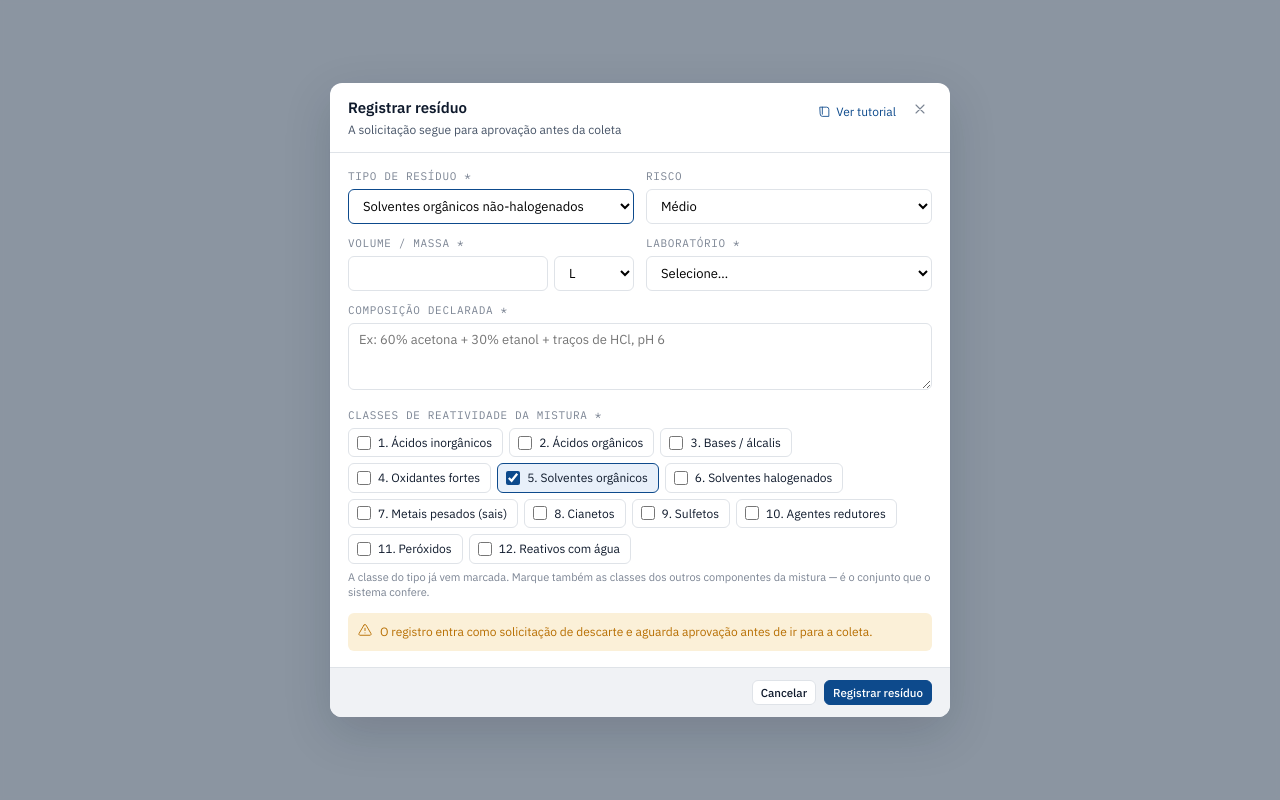
Test case: FormNovoResiduo — entradas inválidas › submeter vazio mostra erros sob os campos, sem alert
This screenshot has width=1280, height=800.
Click the checkbox labelled "1. Ácidos inorgânicos".
click(364, 443)  # box [357, 436, 371, 450]
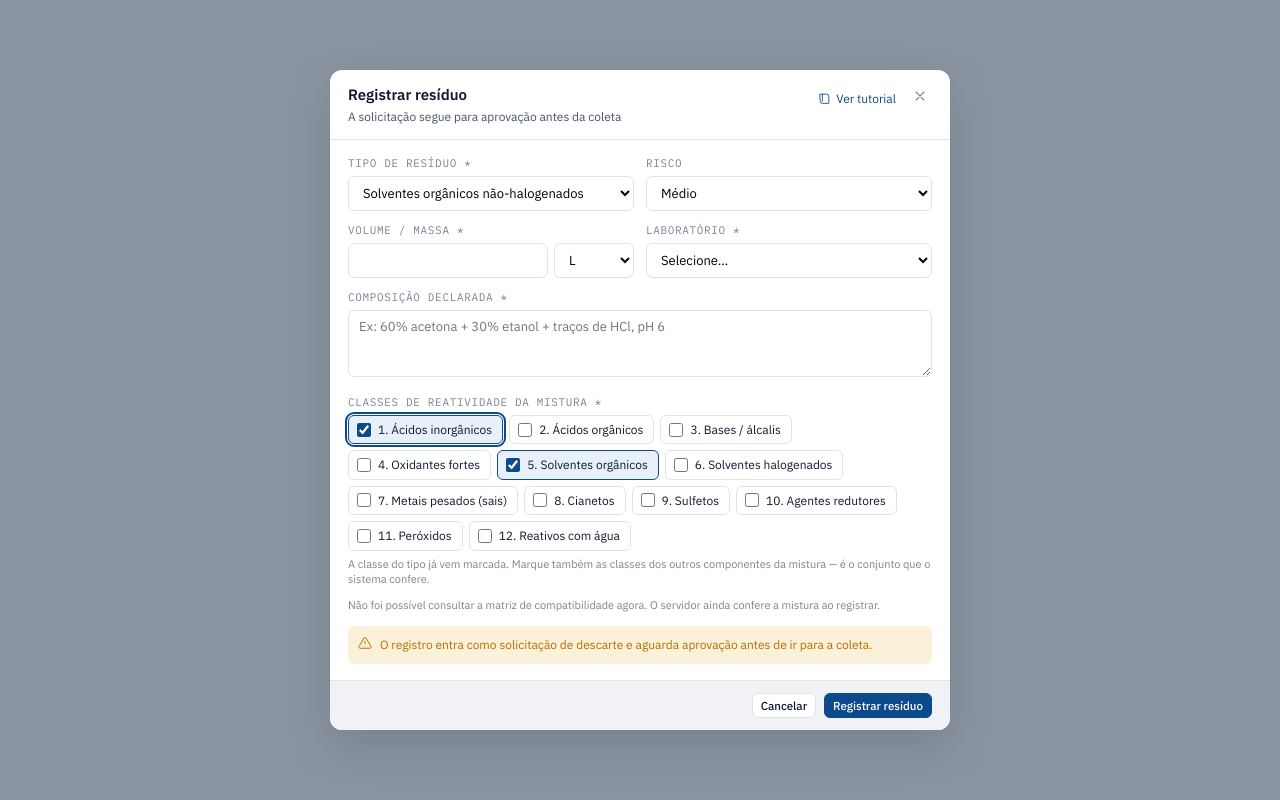
Click the button "Registrar resíduo".
click(878, 705)  # box [824, 693, 932, 718]
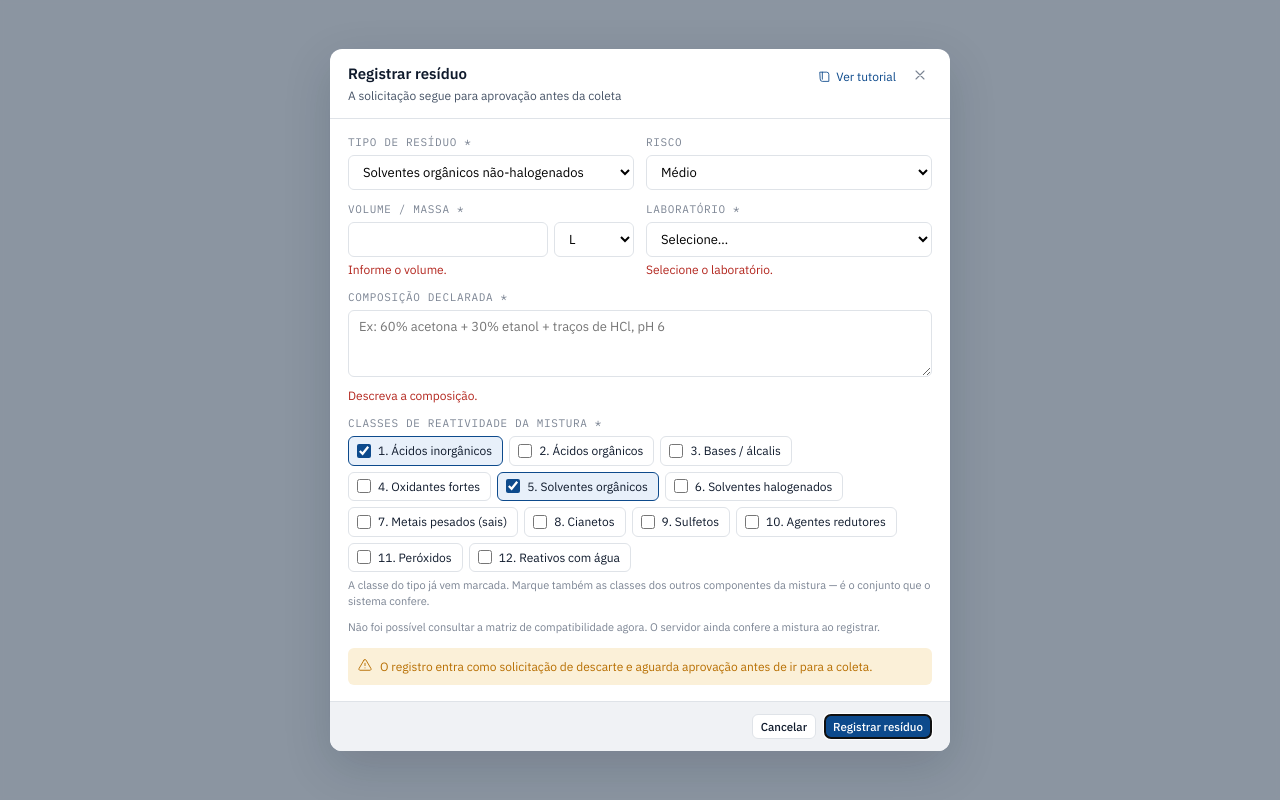
Expected: the text "Informe o volume." is shown, [348, 262, 447, 277]
Expected: the text "Descreva a composição." is shown, [348, 388, 478, 403]
Expected: the text "Selecione o laboratório." is shown, [646, 262, 773, 277]
